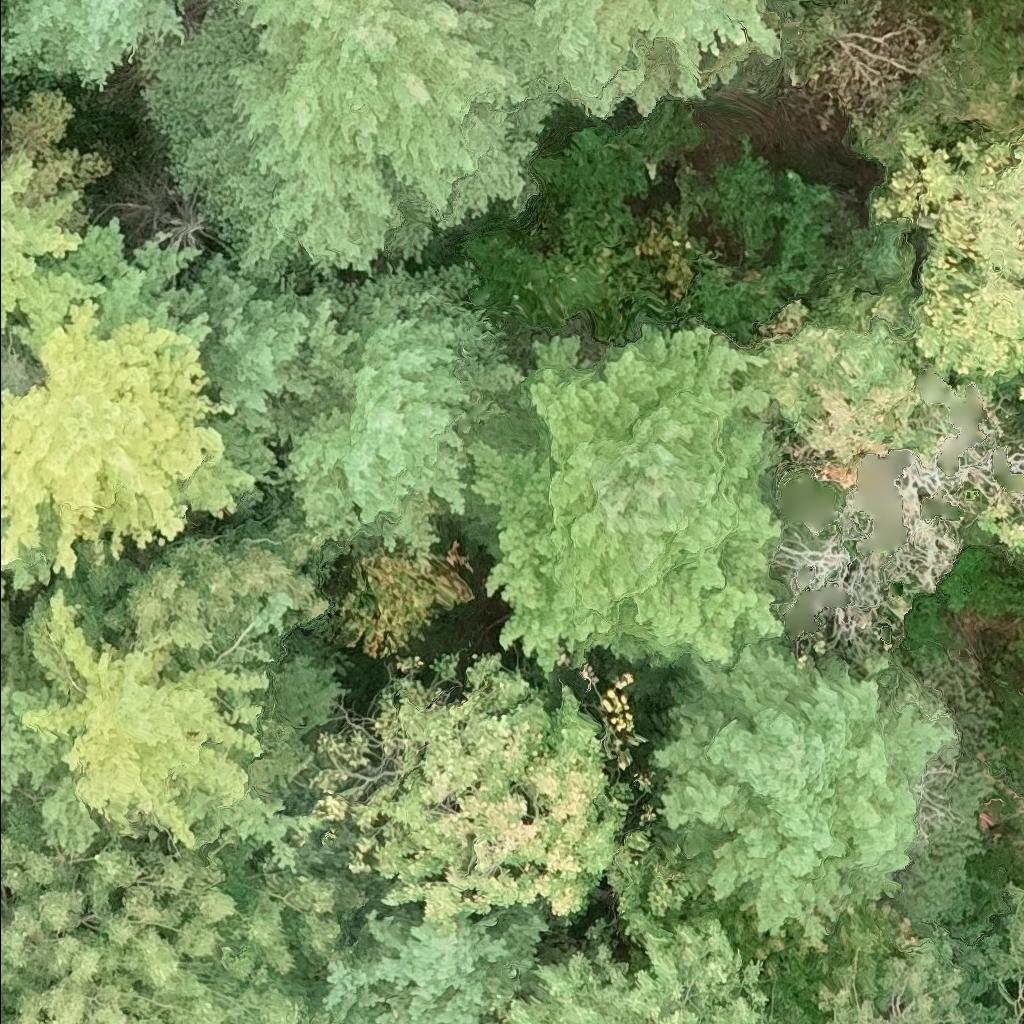crown: (433, 318, 792, 702), (133, 0, 570, 289), (0, 215, 290, 606), (644, 638, 1001, 946), (0, 574, 352, 872), (288, 648, 635, 934), (0, 796, 377, 1023), (267, 260, 532, 554), (732, 272, 962, 486), (72, 495, 336, 665), (867, 122, 1023, 405), (175, 250, 330, 453), (0, 86, 115, 357), (504, 914, 788, 1023), (813, 880, 1023, 1023), (313, 897, 550, 1023), (530, 0, 782, 117), (0, 0, 190, 102), (978, 679, 1023, 886), (972, 491, 1023, 557), (0, 17, 30, 75)
